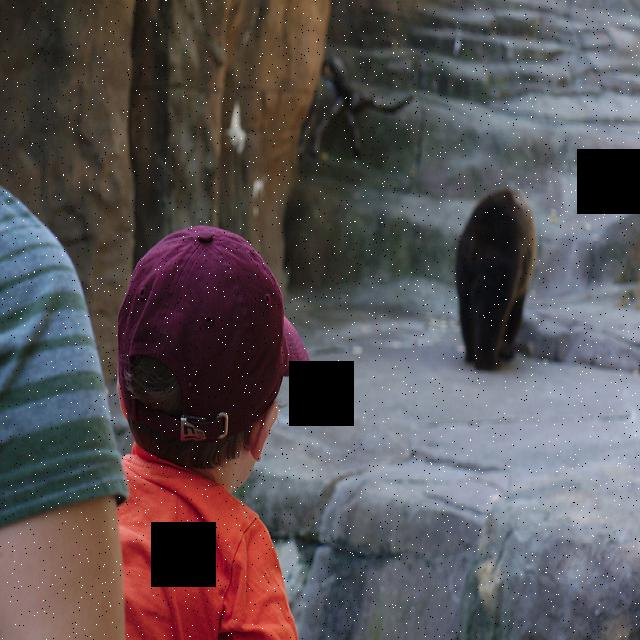Bear: (449, 174, 539, 374)
